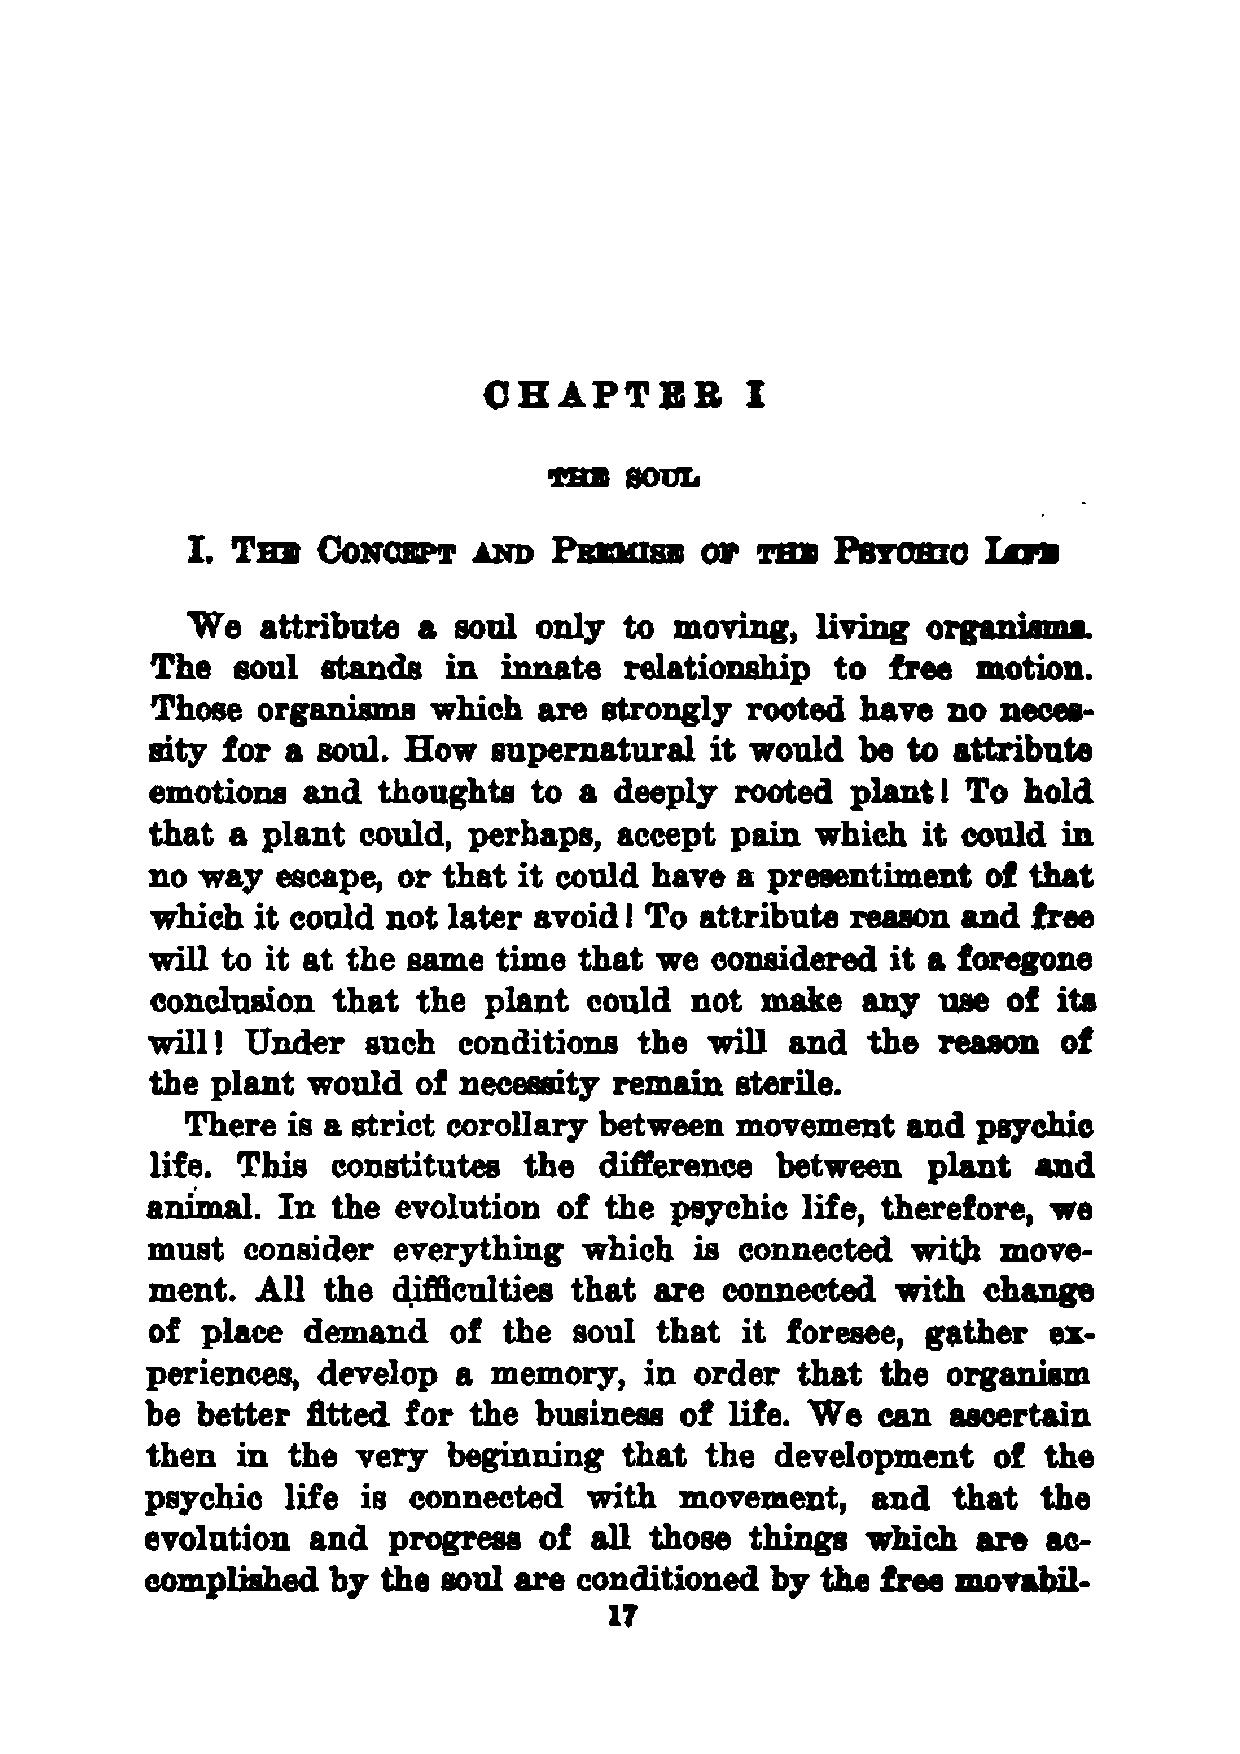chapter: (181, 376, 1062, 566)
content: (140, 607, 1095, 1600)
content_pagenumber: (607, 1602, 637, 1629)
